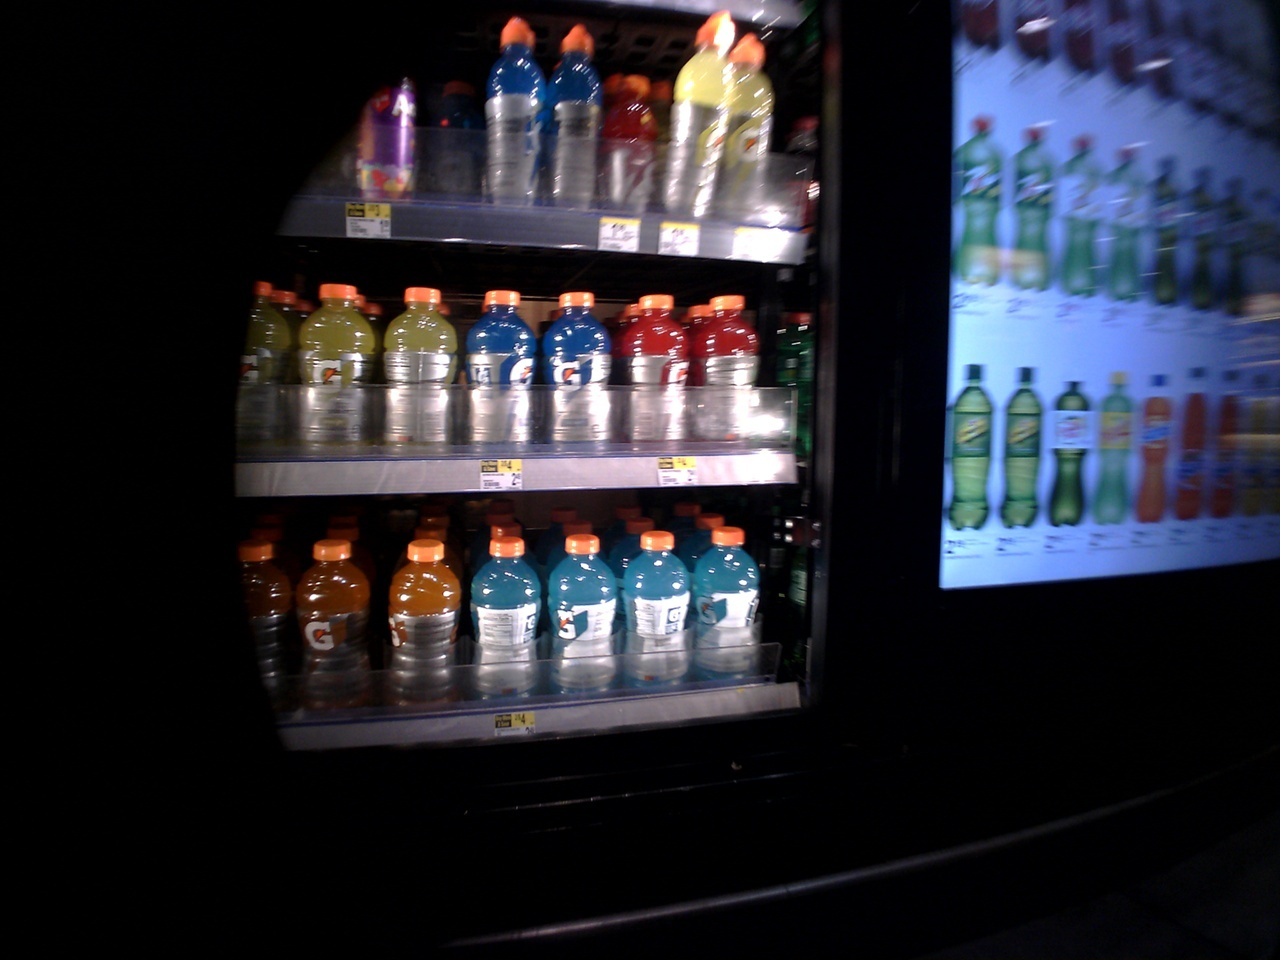shelf: (245, 6, 800, 264), (200, 263, 803, 492), (209, 495, 784, 728)
